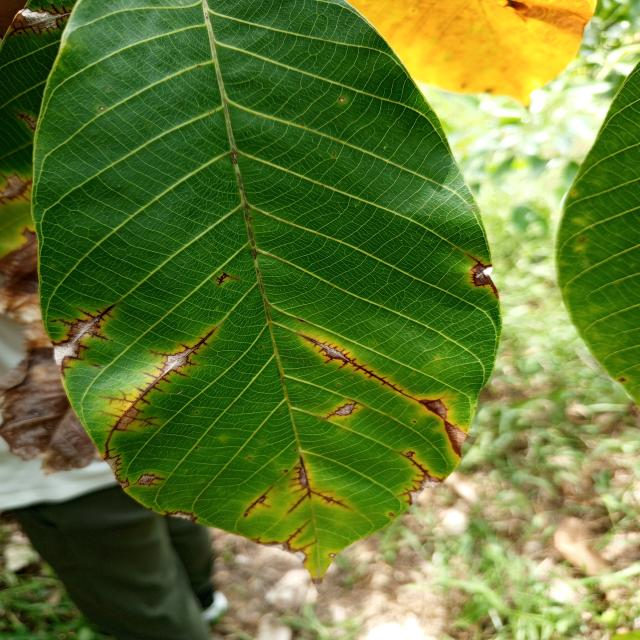Colletotrichum: (329, 553, 335, 558), (98, 106, 105, 110), (339, 98, 345, 102), (195, 411, 199, 414), (332, 154, 336, 157), (197, 65, 200, 68), (195, 447, 198, 449), (248, 457, 251, 459)
Corynespora: (99, 329, 217, 457), (300, 334, 402, 393), (52, 303, 117, 377), (7, 4, 72, 38), (466, 254, 498, 298), (0, 172, 33, 205), (243, 484, 274, 516), (322, 398, 367, 420), (397, 450, 430, 478), (104, 454, 130, 488), (292, 458, 312, 500), (312, 490, 350, 510), (8, 108, 36, 131), (286, 520, 311, 543), (134, 473, 166, 487), (287, 493, 308, 514), (214, 272, 239, 286), (396, 486, 422, 498)
Leaf-Blight: (0, 227, 105, 476), (444, 420, 467, 458), (261, 543, 306, 562), (418, 400, 447, 420)
